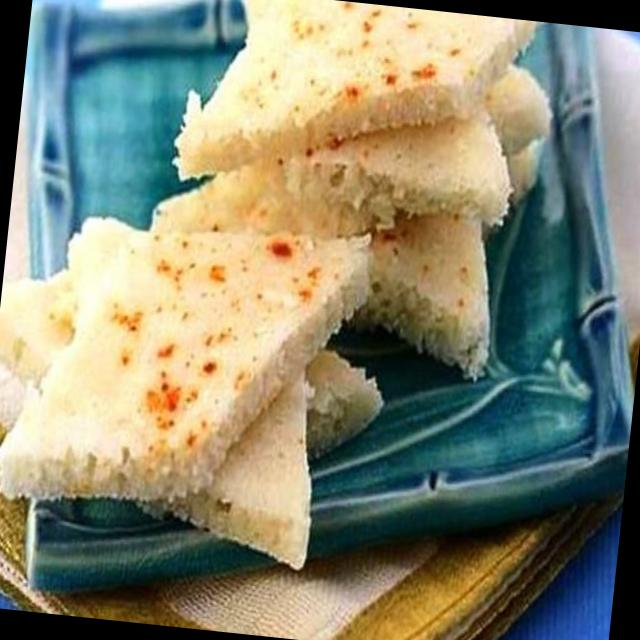dhokla: (0, 0, 544, 586)
